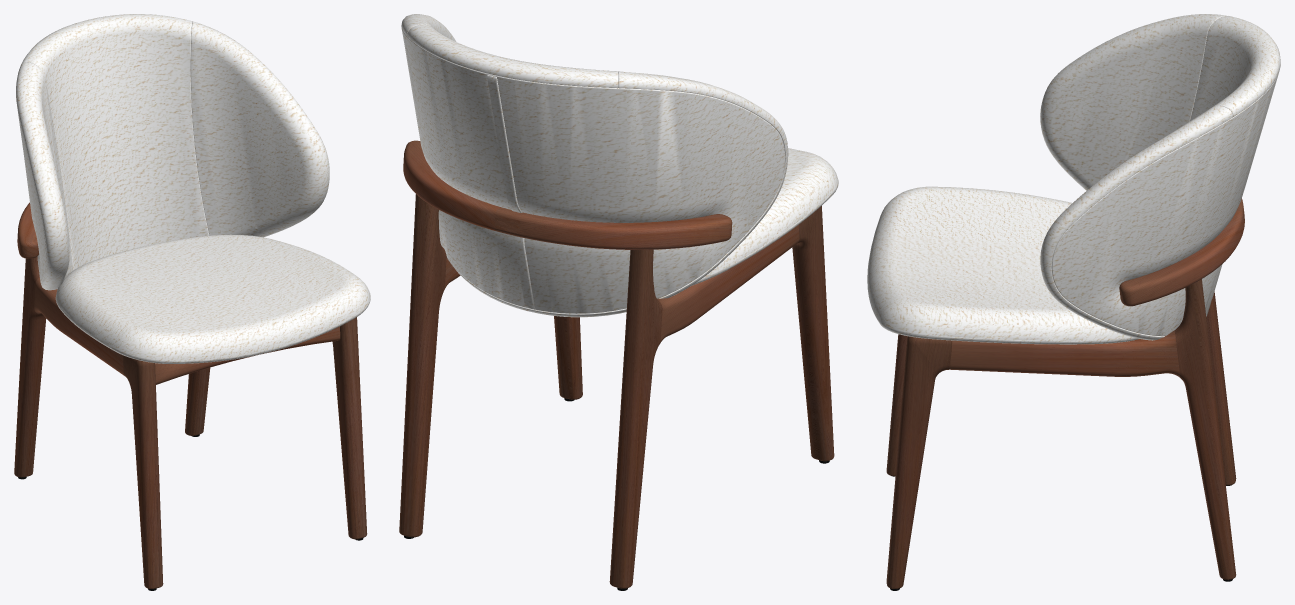
File: cadeiramargot.glb
3 views of the same model, side by side, from view 1: azimuth 30°, elevation 25°; view 2: azimuth 150°, elevation 25°; view 3: azimuth 270°, elevation 25° (orthographic). The views are drawn at different scales.
Visible parts, largest first — view 1: empty_2, empty_5, empty_3; view 2: empty_2, empty_5, empty_3; view 3: empty_2, empty_5, empty_3.
Part boxes in pixels (left/top/right/bottom): empty_2: left=16, top=14, right=370, bottom=363; empty_5: left=14, top=256, right=367, bottom=588; empty_3: left=17, top=202, right=340, bottom=384; empty_2: left=401, top=14, right=838, bottom=317; empty_5: left=399, top=194, right=834, bottom=588; empty_3: left=403, top=140, right=799, bottom=343; empty_2: left=867, top=14, right=1280, bottom=344; empty_5: left=886, top=279, right=1236, bottom=588; empty_3: left=949, top=198, right=1244, bottom=578.
Size of the model in its own units: 0.5629 by 0.8018 by 0.6275.
4 materials, 4 textured.
